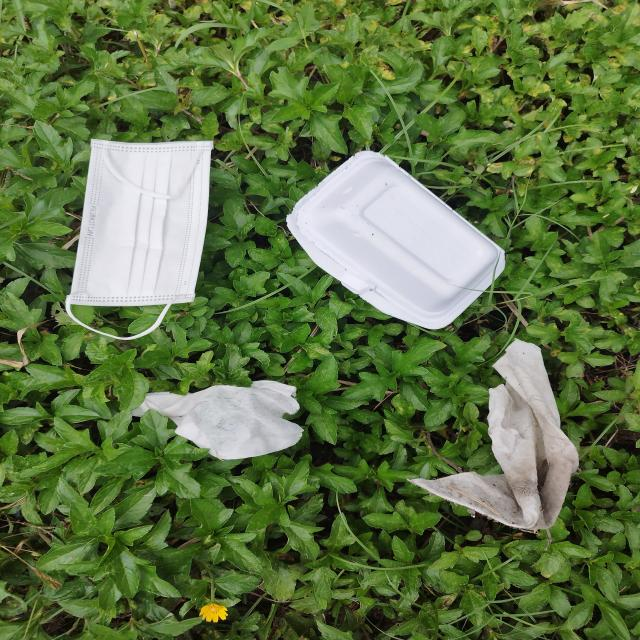foam box: (288, 151, 506, 330)
mask: (67, 138, 215, 341)
napkin: (408, 338, 580, 529), (123, 379, 304, 461)
